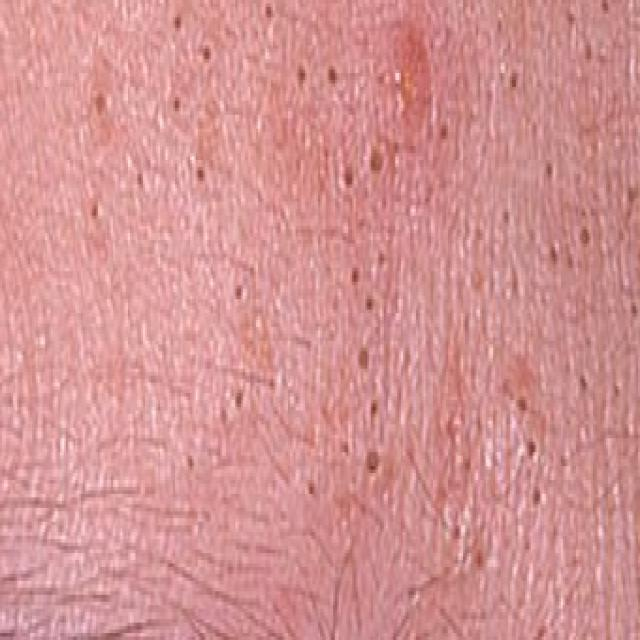blackhead: (579, 189, 598, 259), (488, 404, 504, 474), (406, 579, 430, 619), (368, 143, 386, 178), (500, 372, 517, 408), (92, 88, 108, 120), (366, 445, 381, 479), (355, 342, 372, 371), (508, 64, 522, 99), (192, 159, 208, 189), (341, 159, 355, 193), (626, 174, 639, 208), (217, 401, 231, 432), (200, 41, 216, 68), (516, 388, 530, 418), (531, 482, 545, 512), (472, 546, 486, 576), (87, 198, 103, 224), (295, 59, 308, 91), (232, 384, 245, 416), (627, 292, 639, 326), (338, 431, 351, 462), (374, 69, 392, 90), (390, 96, 403, 125), (565, 241, 576, 275), (306, 474, 318, 505), (132, 167, 146, 193), (511, 274, 524, 302), (374, 246, 388, 272), (563, 4, 578, 28), (581, 35, 593, 65), (526, 433, 537, 465), (326, 62, 340, 87), (232, 281, 247, 304), (265, 369, 279, 393), (578, 366, 589, 396), (262, 0, 276, 23), (370, 395, 381, 424), (472, 220, 486, 242), (611, 375, 622, 403), (595, 43, 607, 68), (558, 452, 573, 472), (184, 449, 196, 474), (388, 134, 402, 155), (438, 119, 448, 148), (550, 238, 560, 267), (462, 451, 472, 479), (170, 92, 182, 115), (452, 517, 463, 542), (531, 118, 543, 140), (372, 96, 382, 122), (544, 158, 554, 183), (489, 273, 499, 298), (364, 294, 376, 314), (599, 0, 612, 18), (496, 8, 504, 37), (475, 407, 482, 439), (173, 12, 183, 34), (502, 204, 512, 226), (350, 264, 359, 288), (524, 532, 532, 558)
